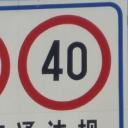speed_limit_40: (18, 15, 111, 111)
